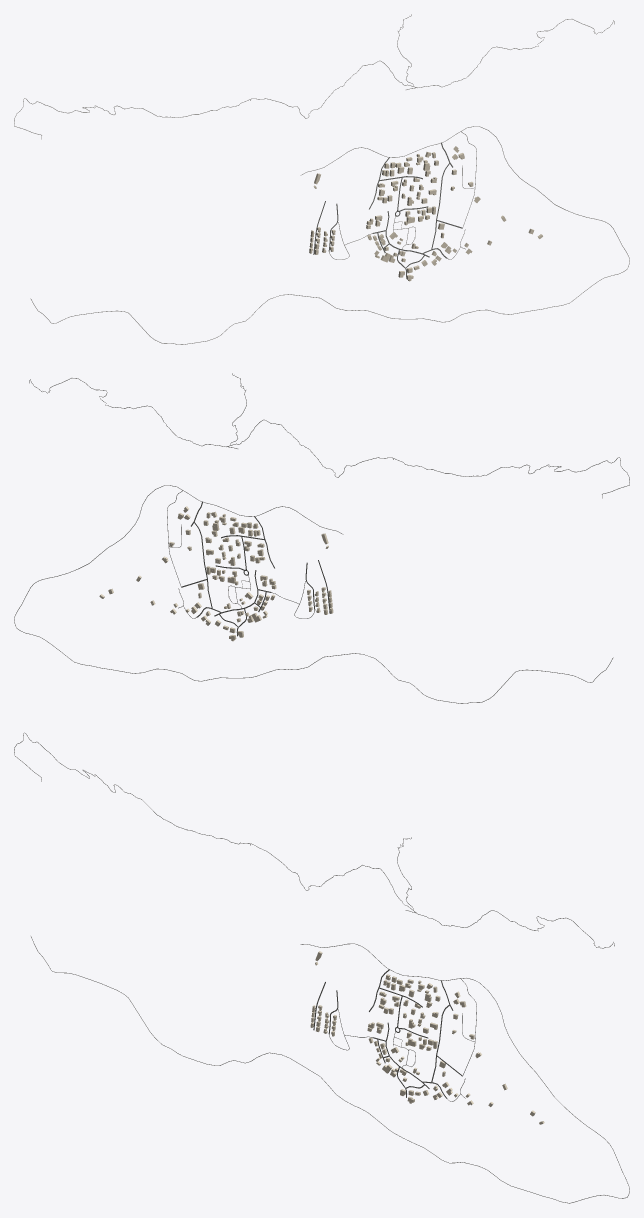
File: historic-palestine-11_24_3530_3184.glb
3 views of the same model, one above another, from view 1: azimuth 30°, elevation 25°; view 2: azimuth 150°, elevation 25°; view 3: azimuth 330°, elevation 25° (orthographic).
Visible parts, largest first — view 1: Road .026, Road .016; view 2: Road .026, Road .016; view 3: Road .026, Road .016.
Part boxes in pixels (left/top/right/bottom): Road .026: left=14, top=19, right=614, bottom=139; Road .016: left=30, top=251, right=629, bottom=344; Road .026: left=29, top=378, right=629, bottom=498; Road .016: left=14, top=610, right=613, bottom=703; Road .026: left=14, top=732, right=614, bottom=948; Road .016: left=31, top=936, right=629, bottom=1203.
Bounding box in the file's own units: 1912 × 1004 × 8.7.
